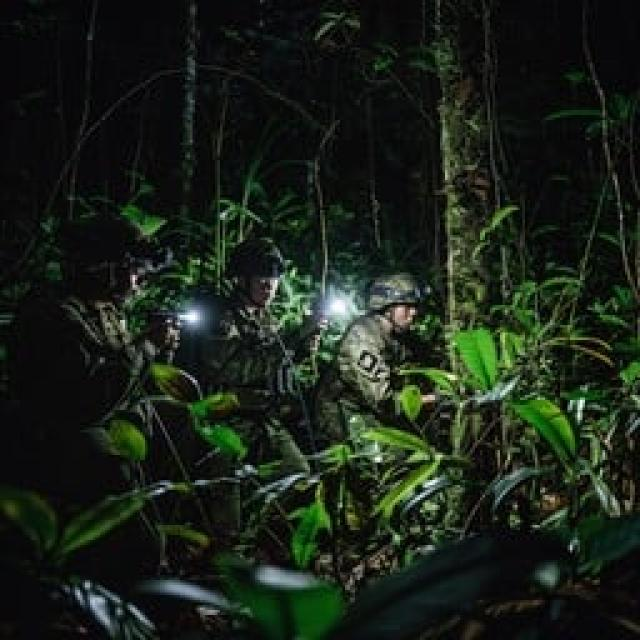Forest: (0, 0, 640, 640)
Militant: (18, 204, 190, 564), (322, 260, 470, 545), (188, 231, 313, 505)
